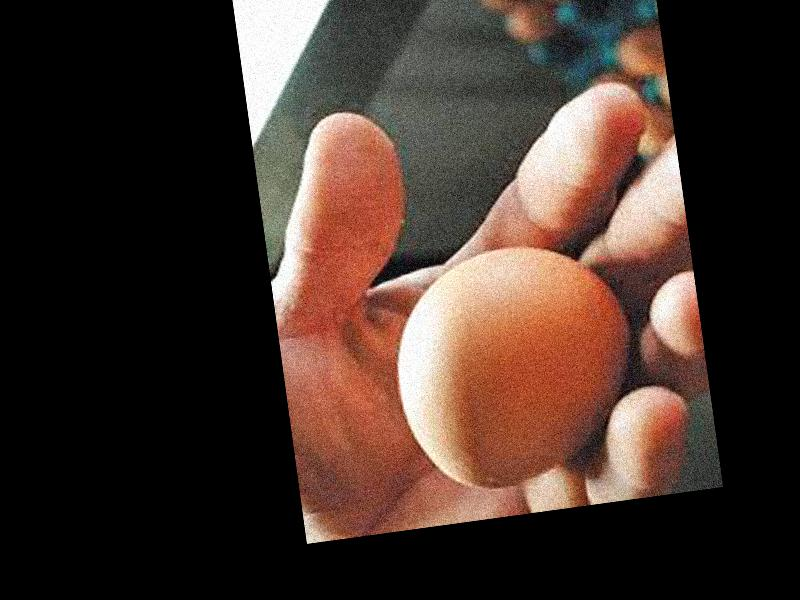Eggs: (383, 231, 651, 503)
